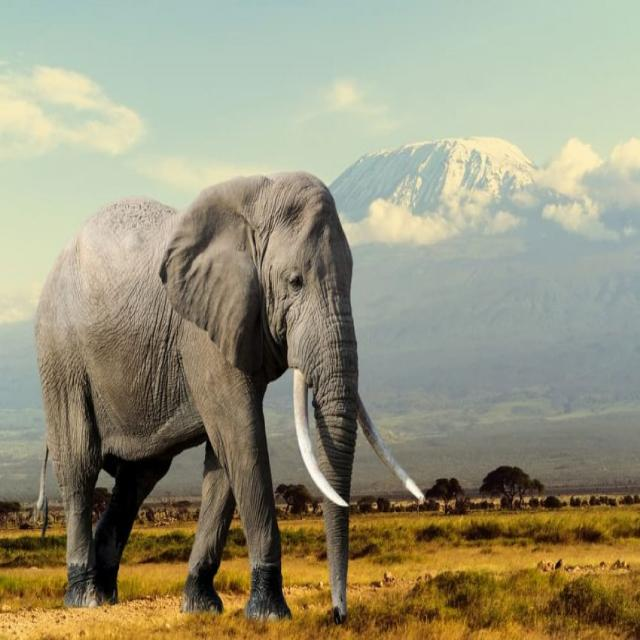Herbivorous: (34, 172, 423, 626)
